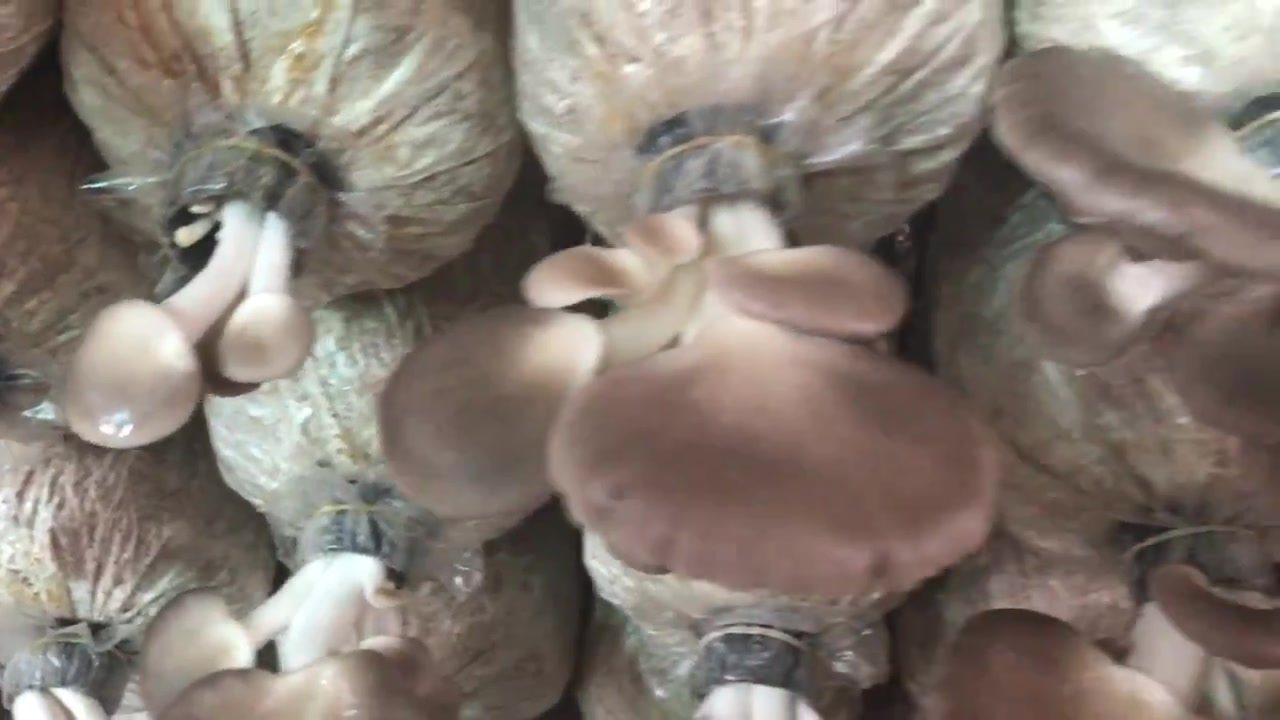nam: (386, 123, 1000, 603), (985, 41, 1280, 439), (66, 139, 343, 445), (945, 499, 1277, 720), (145, 505, 457, 720)
